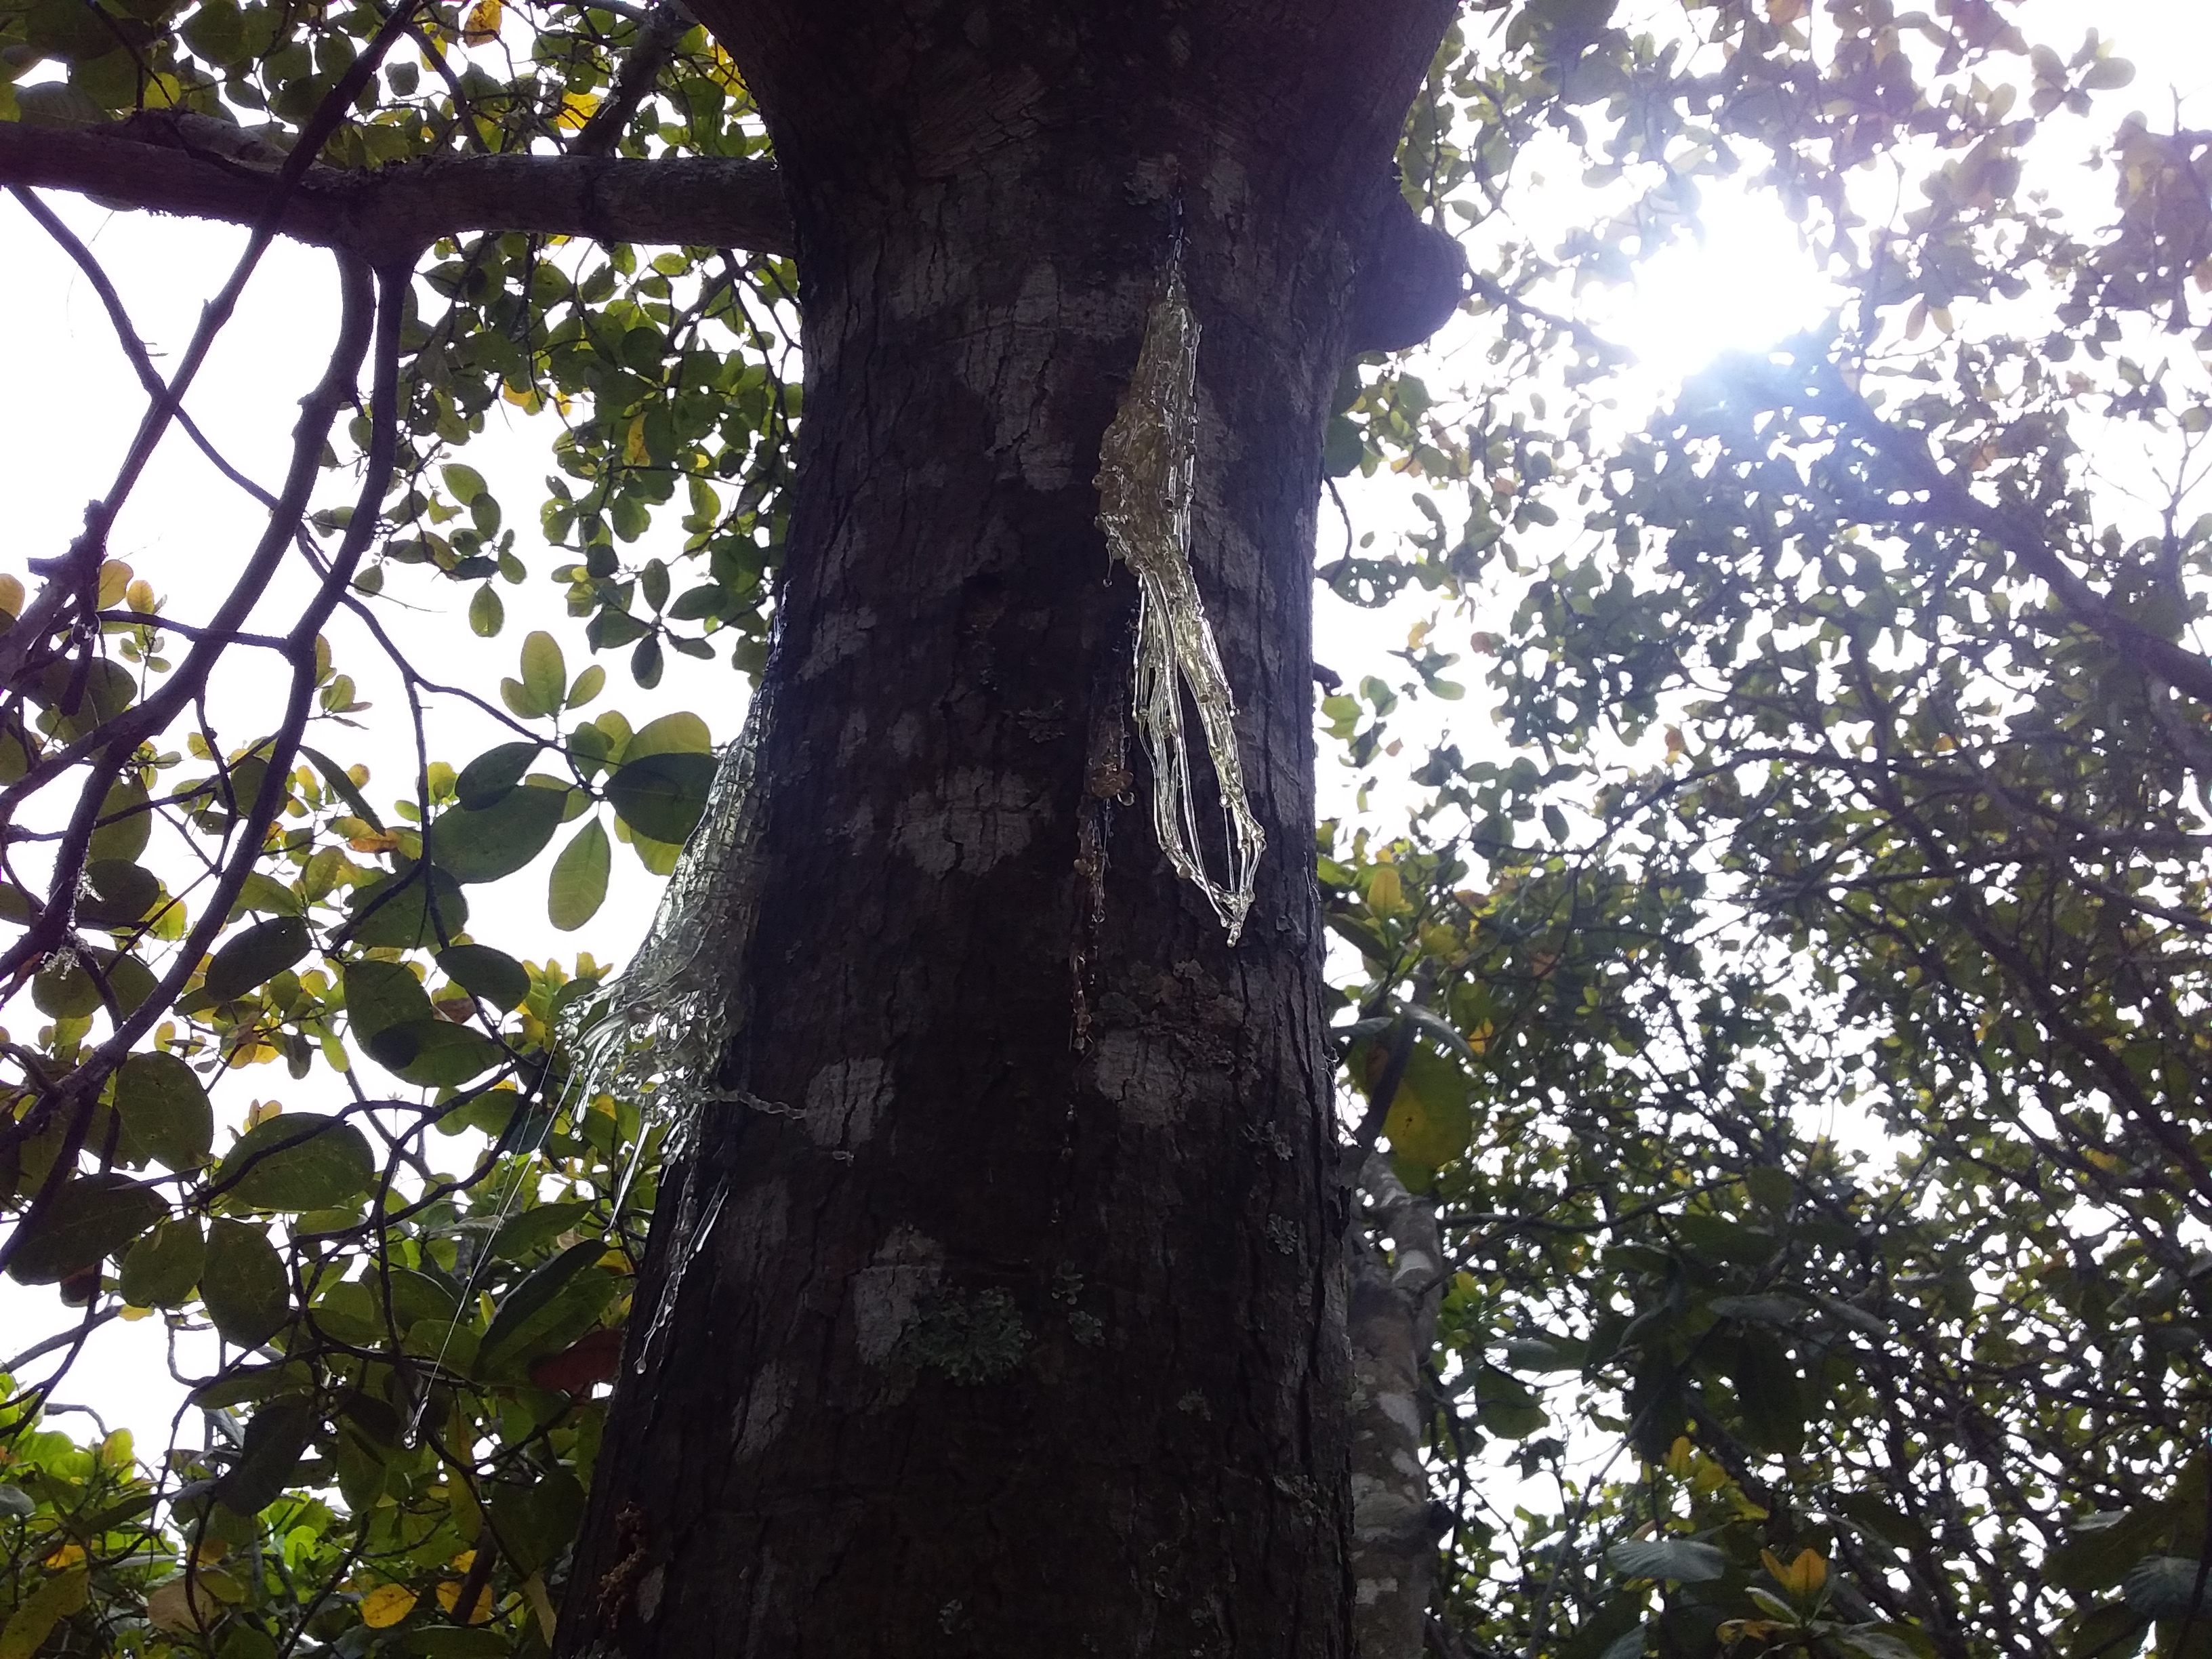Gommose: (536, 631, 777, 1326), (1103, 244, 1259, 972)
